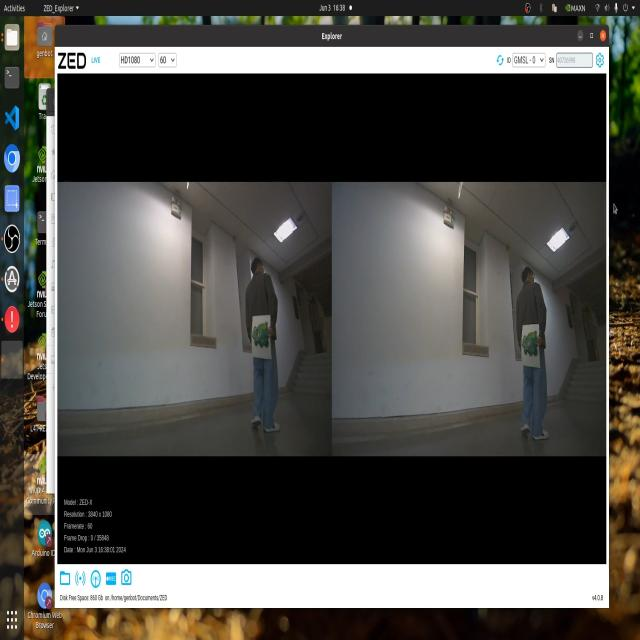green: (248, 319, 276, 358), (517, 325, 540, 360)
